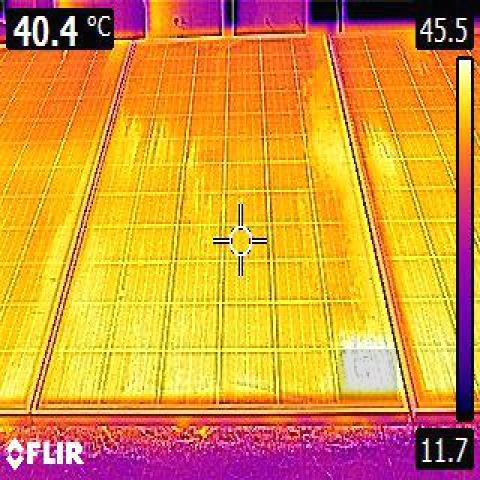fault: (338, 349, 397, 400)
